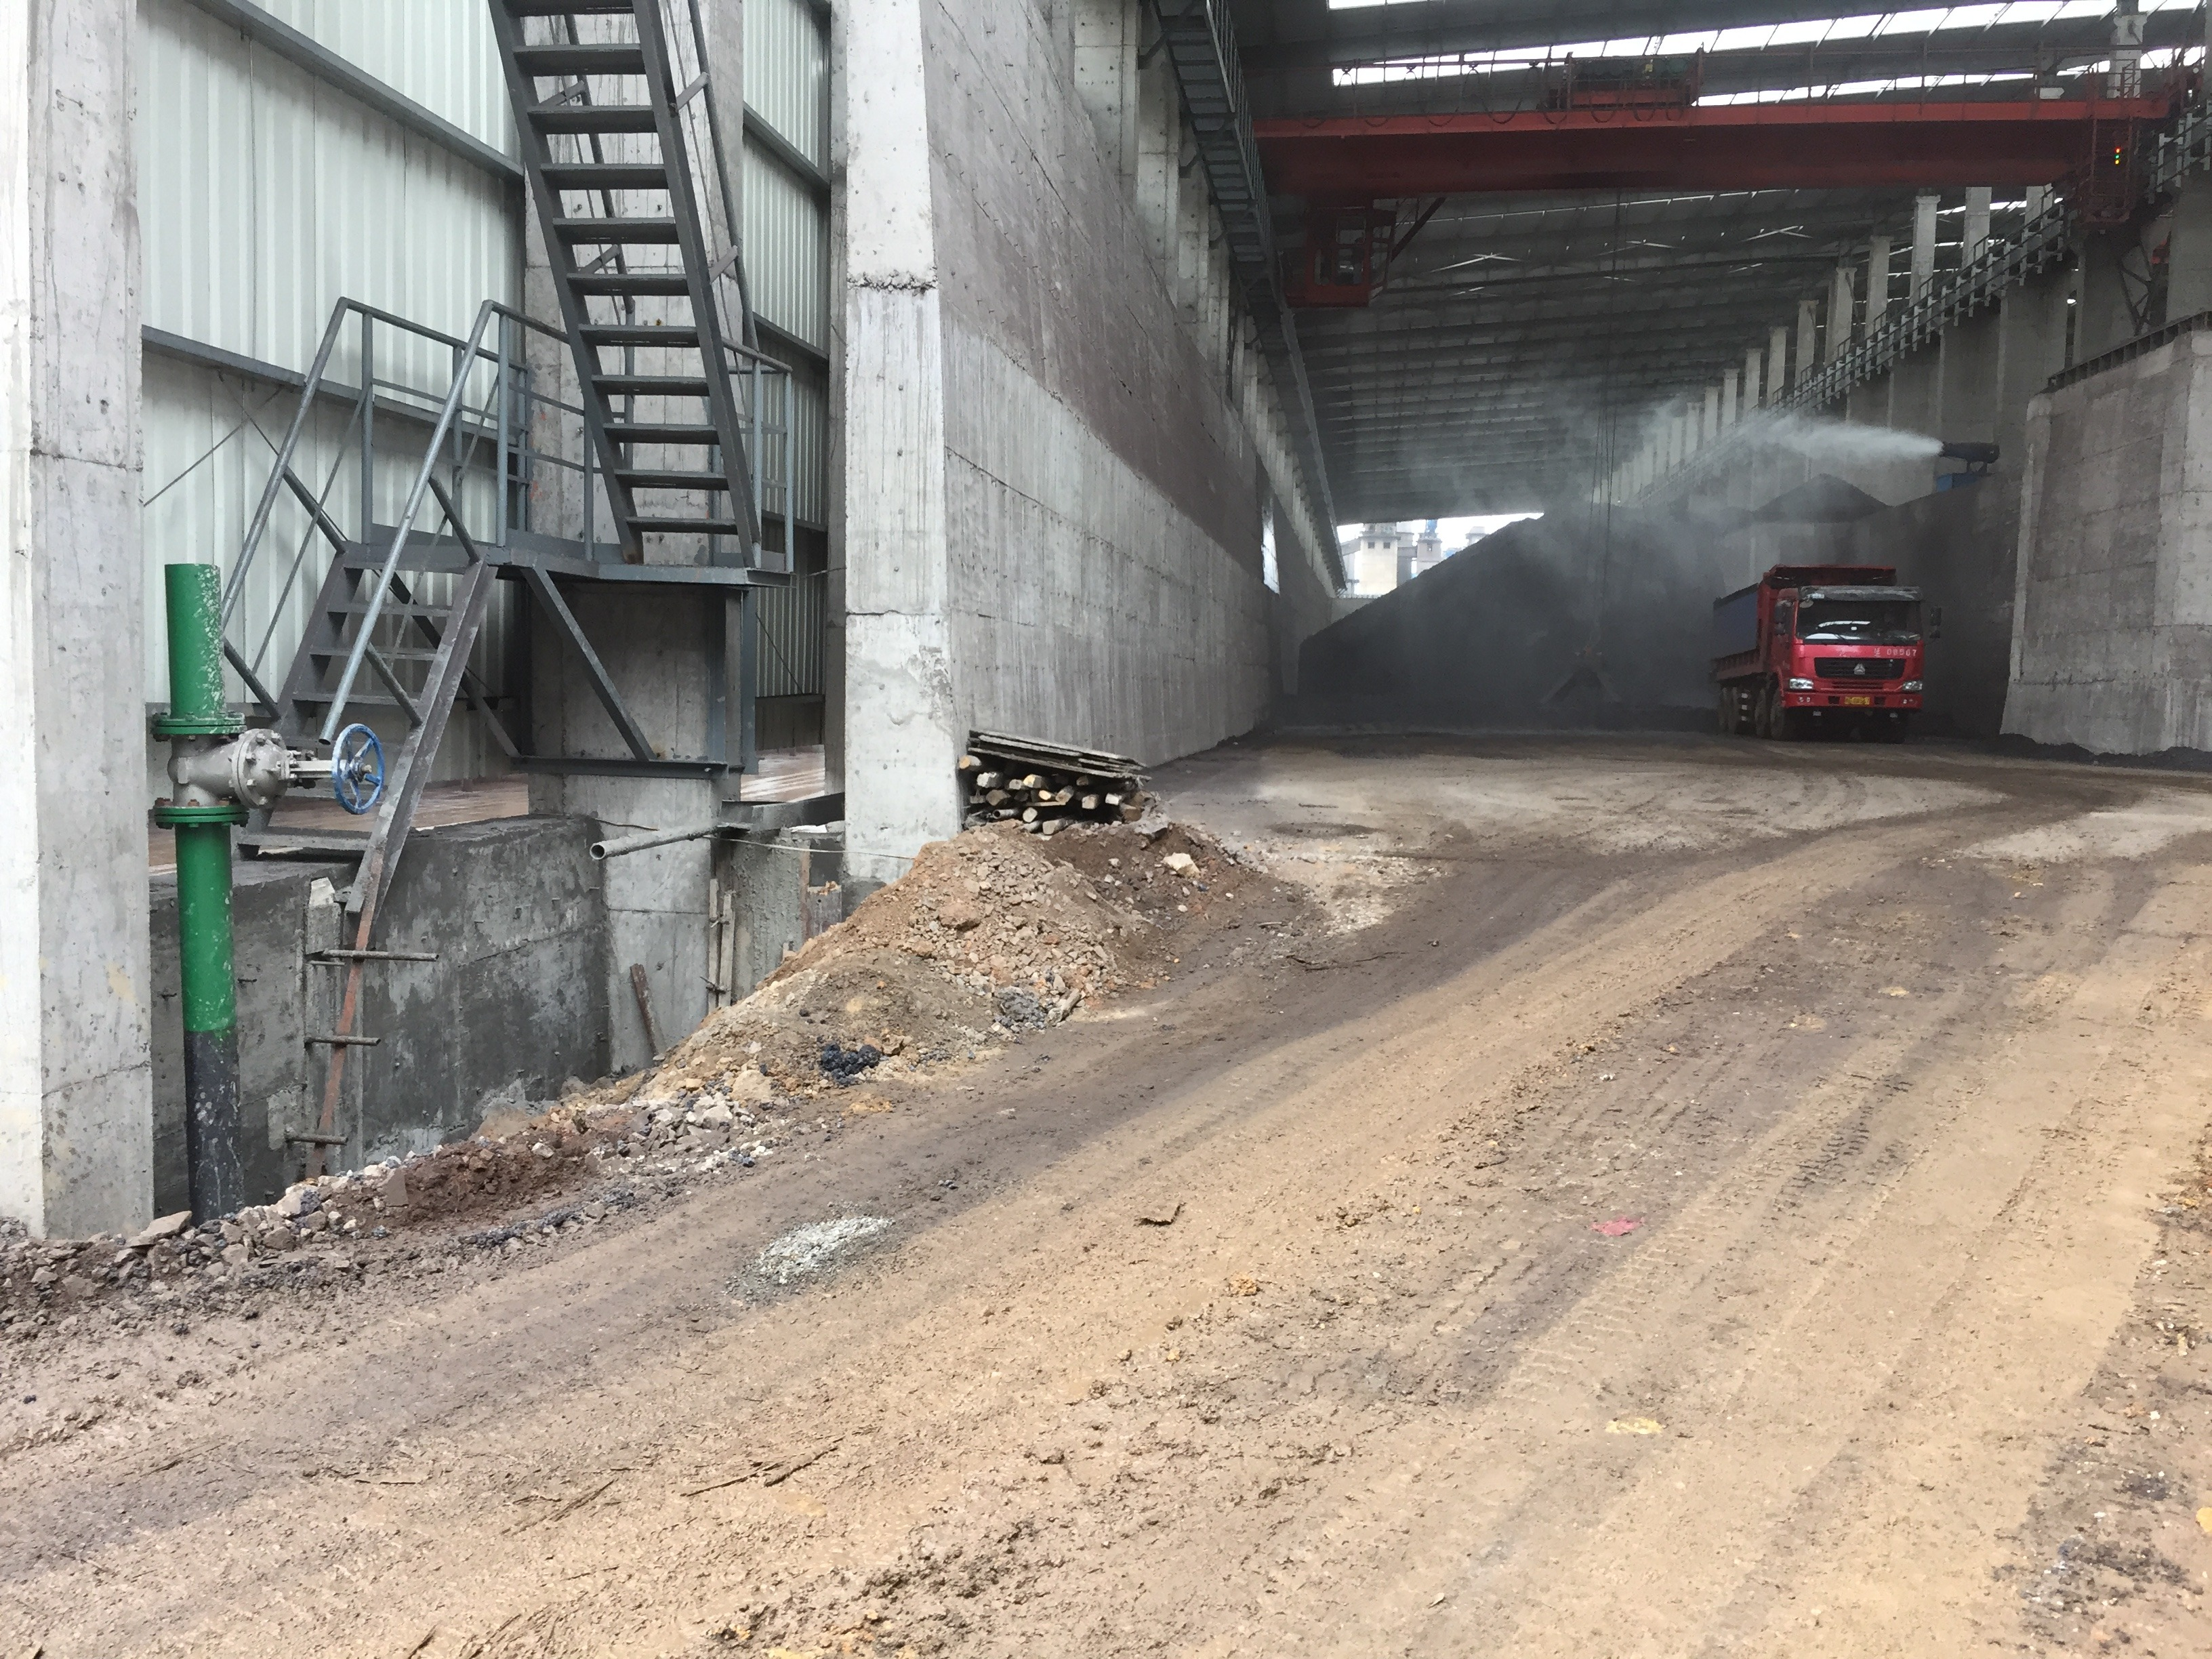dust: (1353, 375, 1921, 603)
truck: (1696, 554, 1944, 746)
